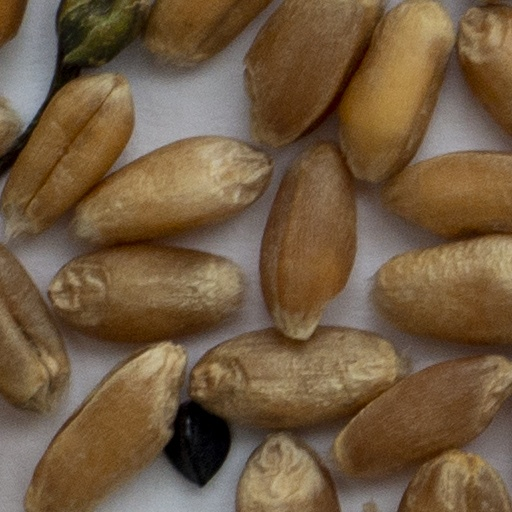Fallopia-Convolvulus-poly: (173, 403, 228, 483)
